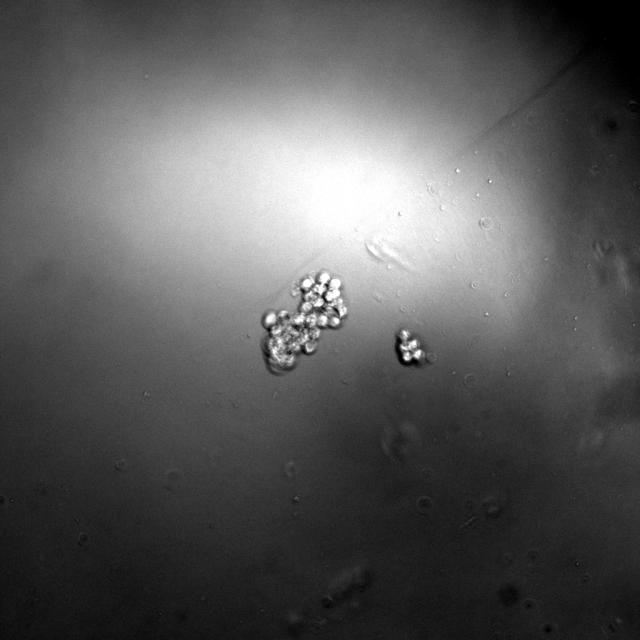organoid: (262, 271, 348, 372), (396, 329, 426, 366)
